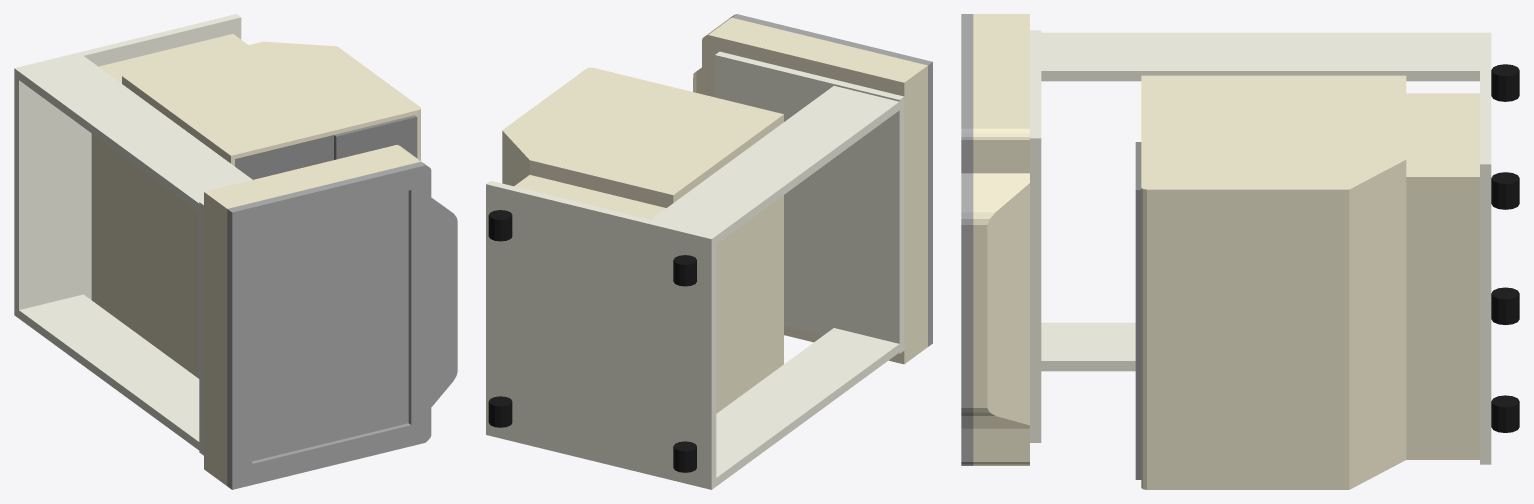
The model's file is PRINTER_link_mesh.dae.
3 renders of one model, left to right at view 1: azimuth 30°, elevation 25°; view 2: azimuth 150°, elevation 25°; view 3: azimuth 270°, elevation 25°, orthographic. The views are drawn at different scales.
Visible parts, largest first — view 1: PRINTER_link (×6); view 2: PRINTER_link (×9); view 3: PRINTER_link (×10).
Part boxes in pixels (x1,y1,x2,y2): PRINTER_link (×6): [14, 14, 457, 489]; PRINTER_link (×9): [486, 14, 932, 489]; PRINTER_link (×10): [961, 14, 1519, 489].
Bounding box in the file's own units: 0.655 × 0.656 × 0.984.
